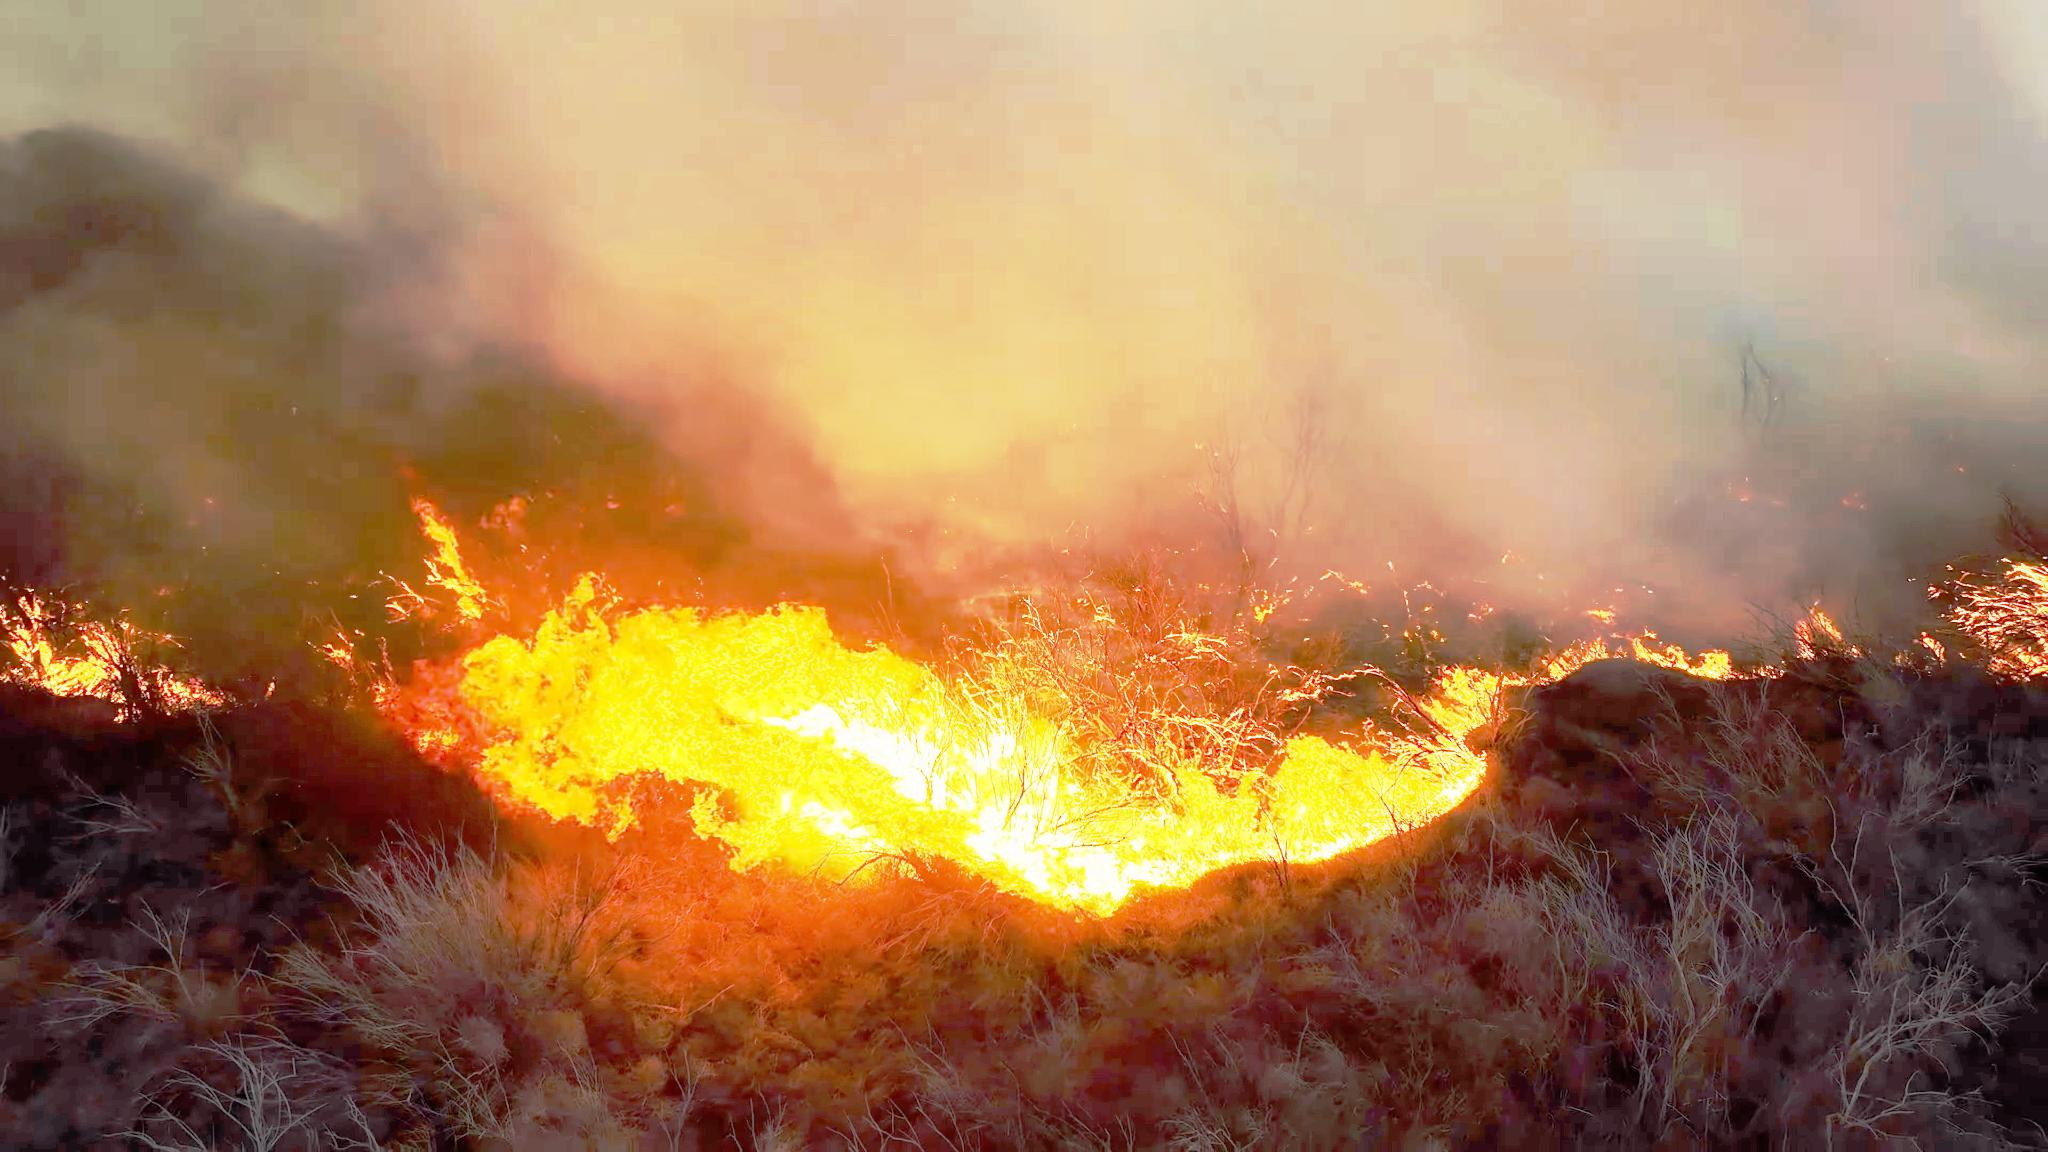fire: (369, 511, 878, 866), (851, 651, 1259, 909), (1243, 660, 1512, 896)
smoke: (0, 0, 655, 414)
